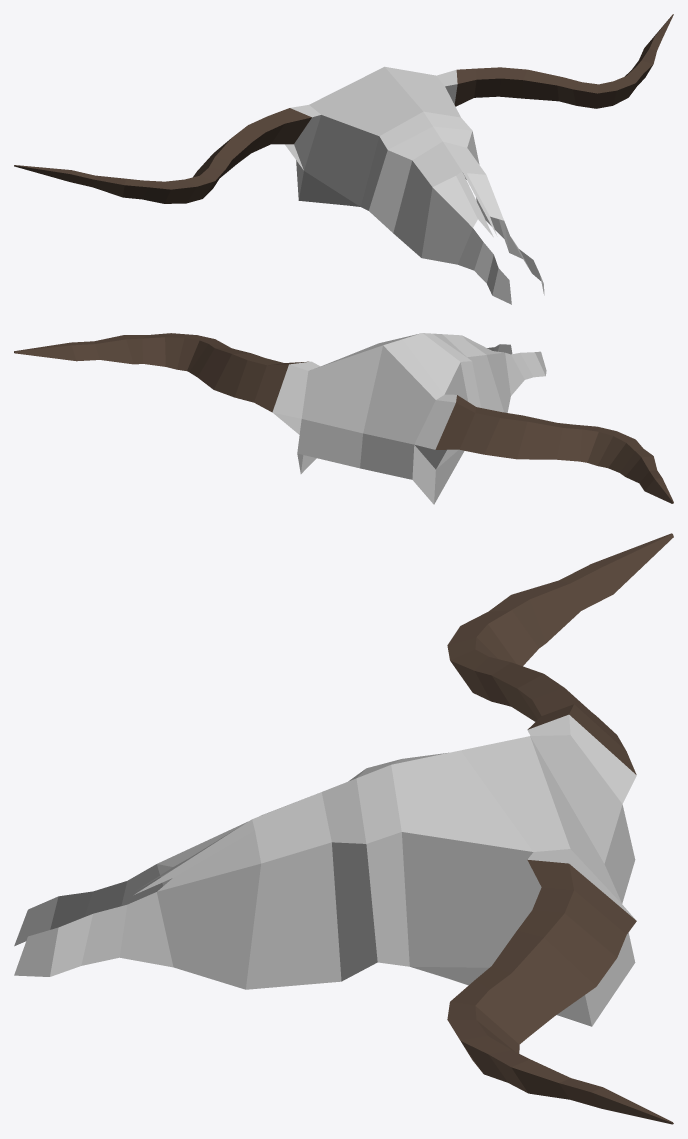
File: skull.fbx
The picture shows the model from 3 angles, top to bottom: view 1: azimuth 30°, elevation 25°; view 2: azimuth 150°, elevation 25°; view 3: azimuth 270°, elevation 25°; orthographic projection. The views are drawn at different scales.
Visible parts, largest first — view 1: Cube; view 2: Cube; view 3: Cube.
Boxes of the visible parts, bbox=[...] form: Cube: bbox=[14, 14, 673, 304]; Cube: bbox=[14, 333, 673, 504]; Cube: bbox=[14, 533, 673, 1124].
Bounding box in the file's own units: 10.08 × 1.93 × 4.92.
